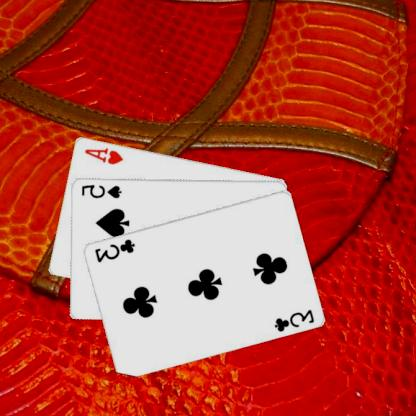3C: (93, 236, 138, 264), (273, 306, 317, 334)
5S: (80, 182, 124, 199)
AH: (83, 144, 126, 166)
